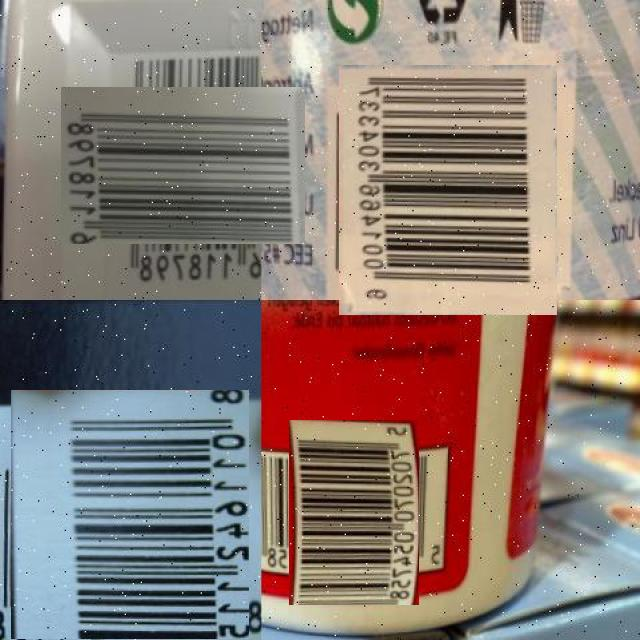Barcode: (5, 395, 255, 640), (331, 73, 565, 308), (82, 65, 283, 266), (275, 433, 433, 591)
